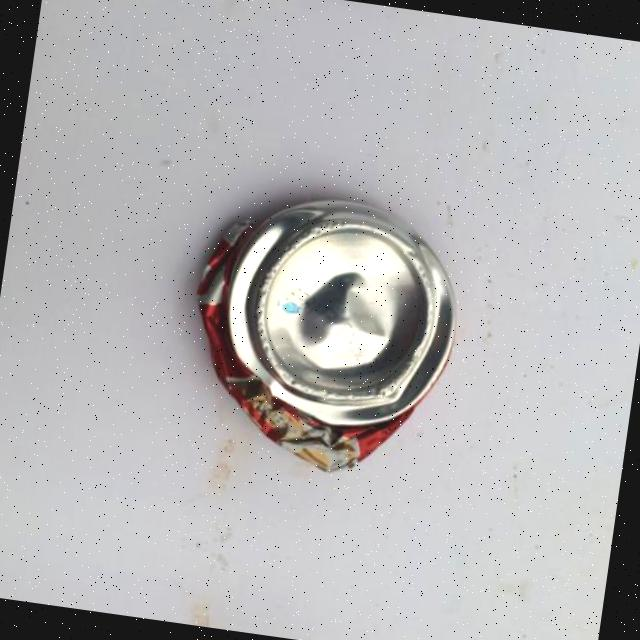Metal: (78, 114, 519, 556), (63, 554, 458, 640), (150, 0, 540, 44)
